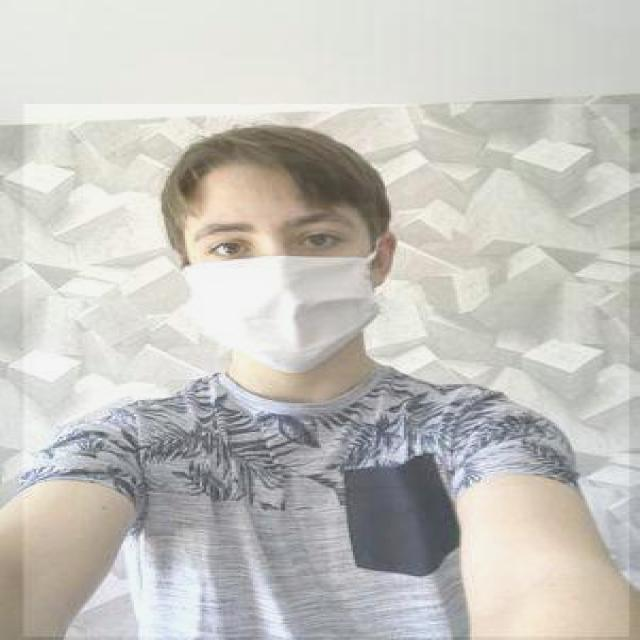face_mask: (181, 202, 378, 372)
head_nohelmet: (159, 119, 404, 218)
person: (24, 104, 632, 638)
